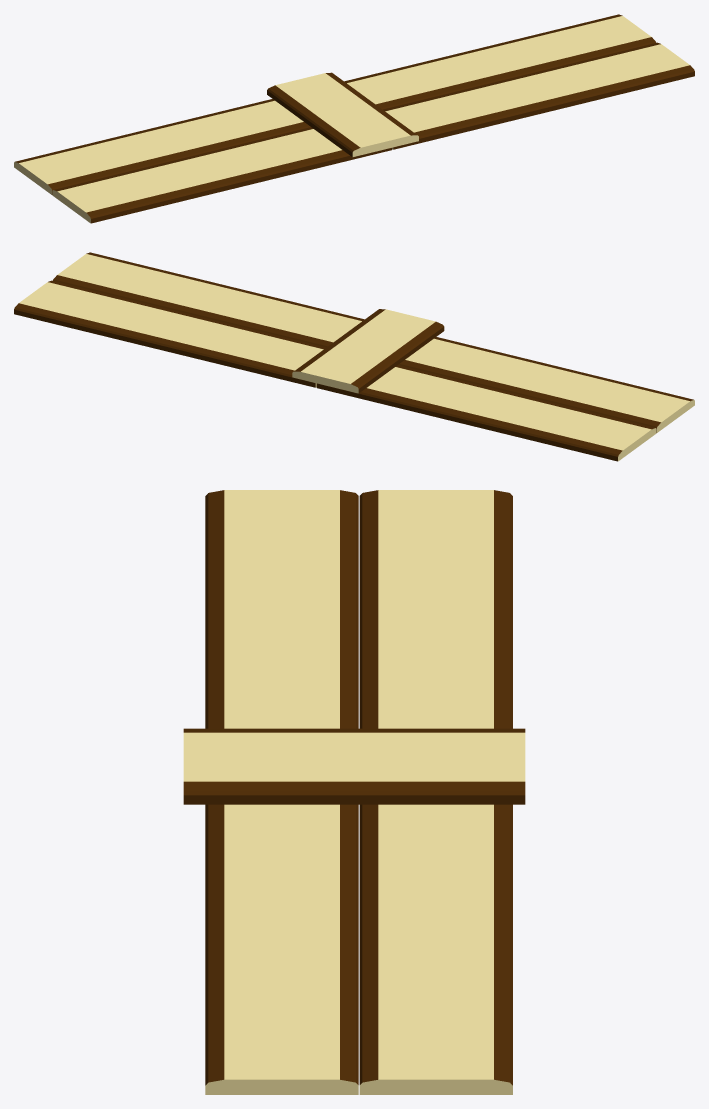
File: Plants.fbx
3 views of the same model, one above another, from view 1: azimuth 30°, elevation 25°; view 2: azimuth 150°, elevation 25°; view 3: azimuth 270°, elevation 25° (orthographic). The views are drawn at different scales.
Visible parts, largest first — view 1: Cube; view 2: Cube; view 3: Cube.
Part boxes in pixels (x1,y1,x2,y2): Cube: [14, 14, 694, 223]; Cube: [14, 252, 694, 461]; Cube: [183, 490, 525, 1094].
Size of the model in its own units: 801 by 19.44 by 196.
